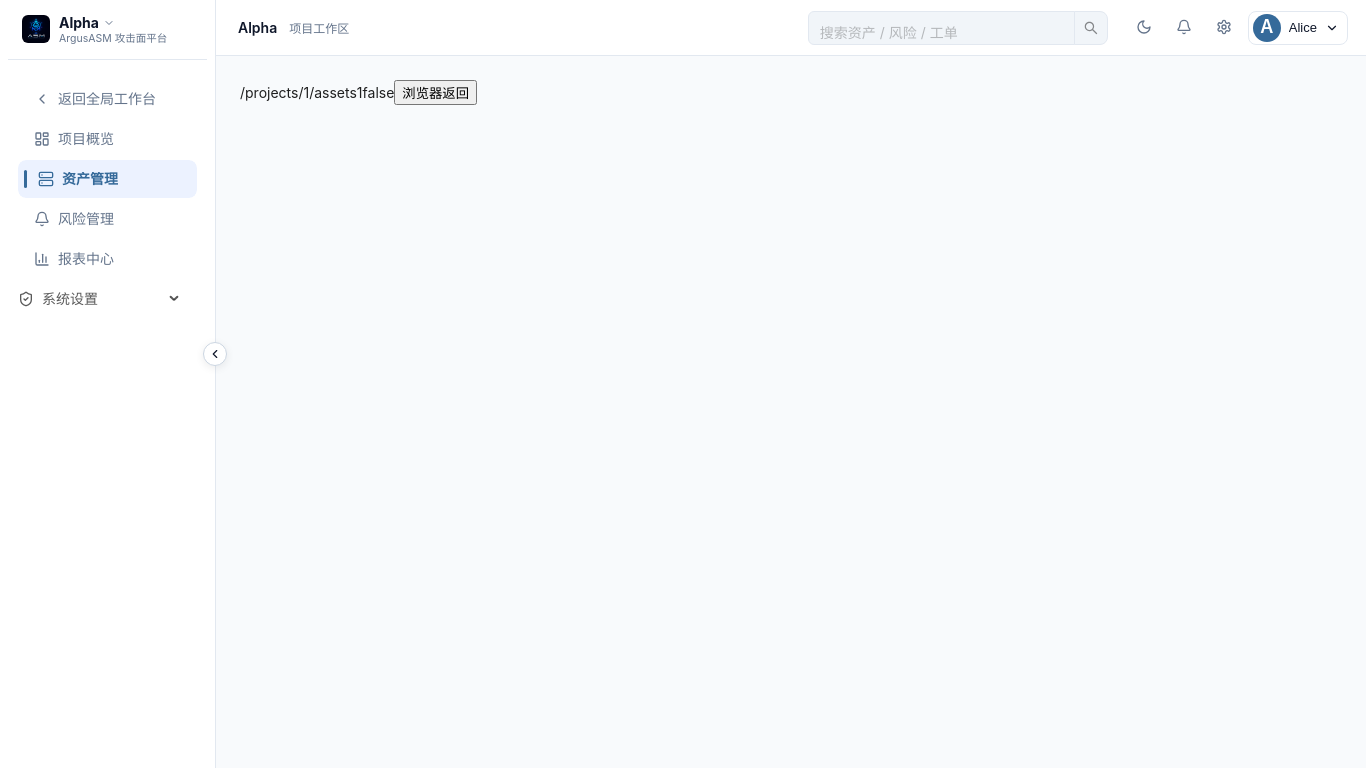
persistent project navigation › switches the entire menu to the selected project and uses its permissions
Click the button with aria-label "切换项目：Alpha" at (100, 29), box left=14, top=8, right=185, bottom=51
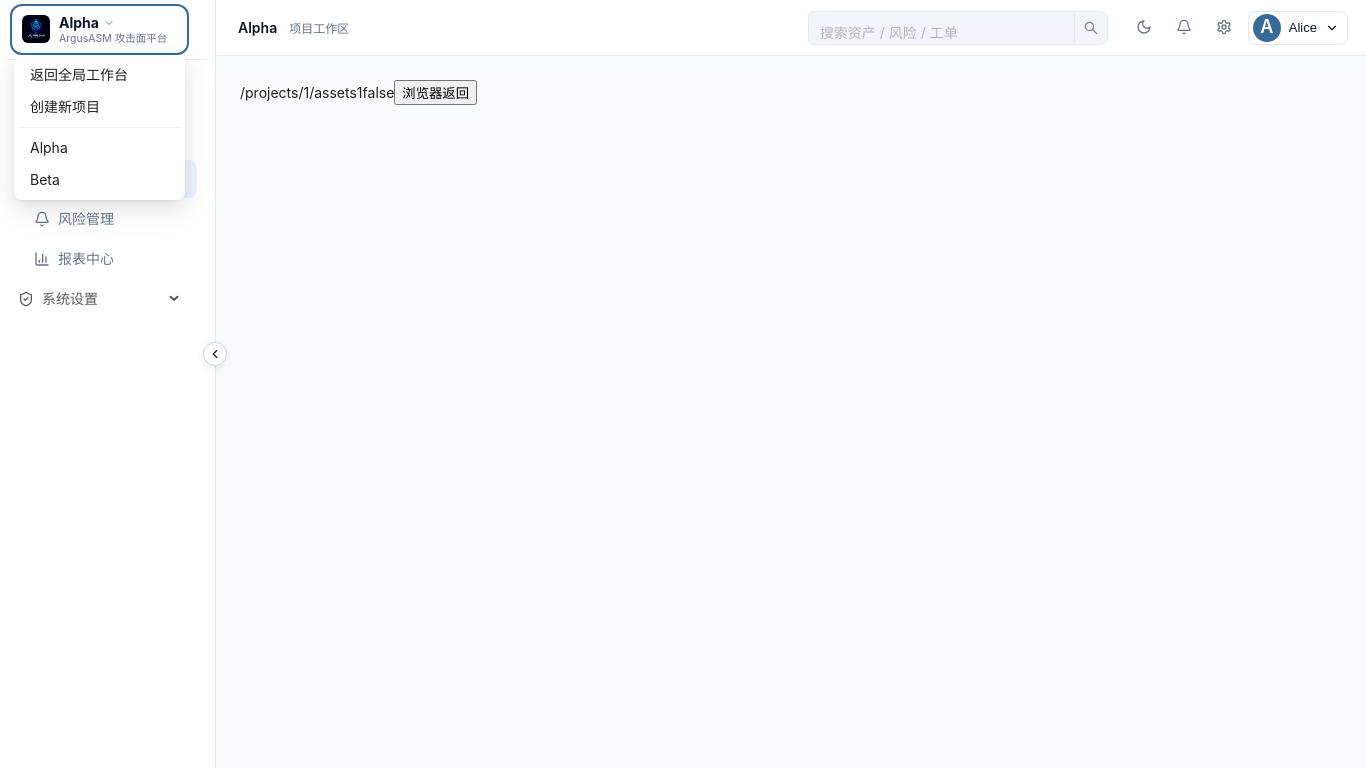
Click the menu item "Beta" at (45, 180), box left=30, top=171, right=60, bottom=188
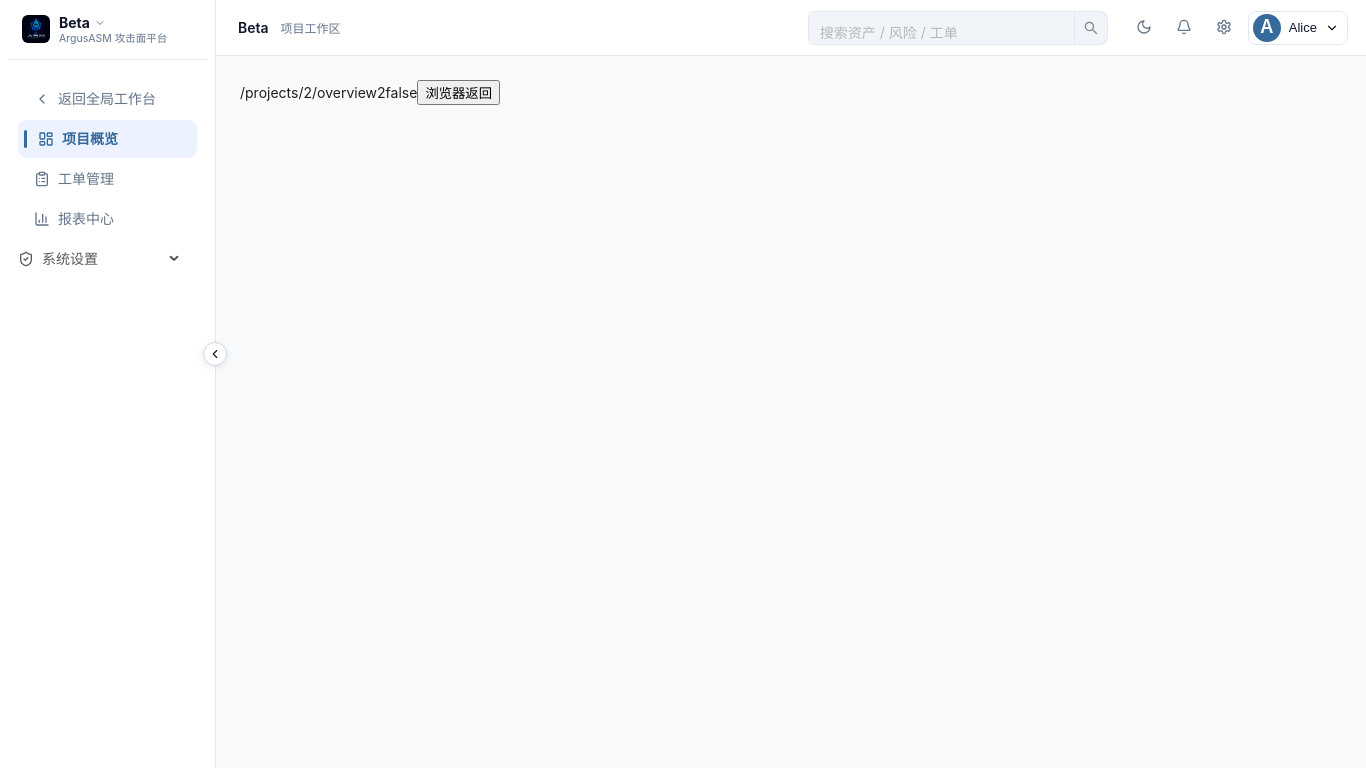
Expected: the text with test id "route" reads "/projects/2/overview", left=240, top=84, right=377, bottom=101
Expected: the button "资产管理" is gone
Click the button "工单管理" at (74, 178), box left=34, top=170, right=114, bottom=187
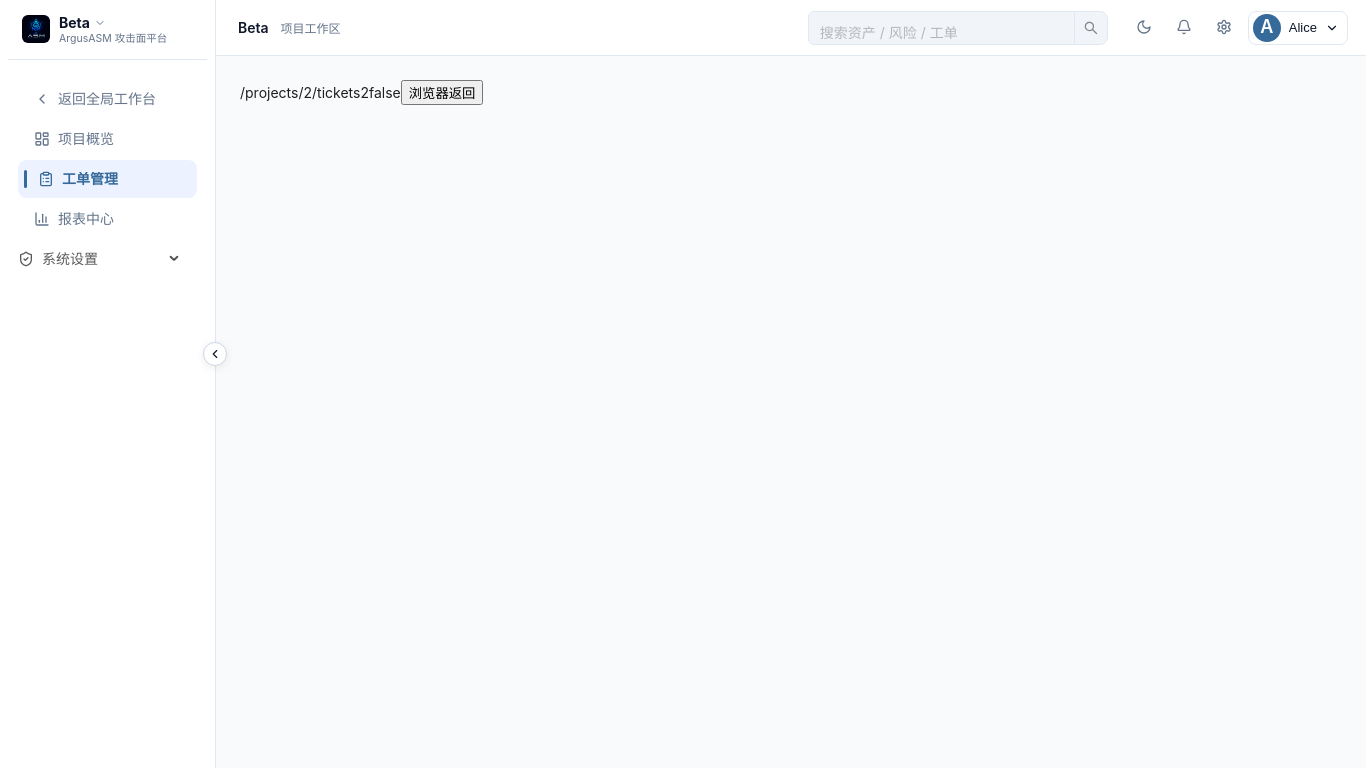
Expected: the text with test id "route" reads "/projects/2/tickets", left=240, top=84, right=360, bottom=101
